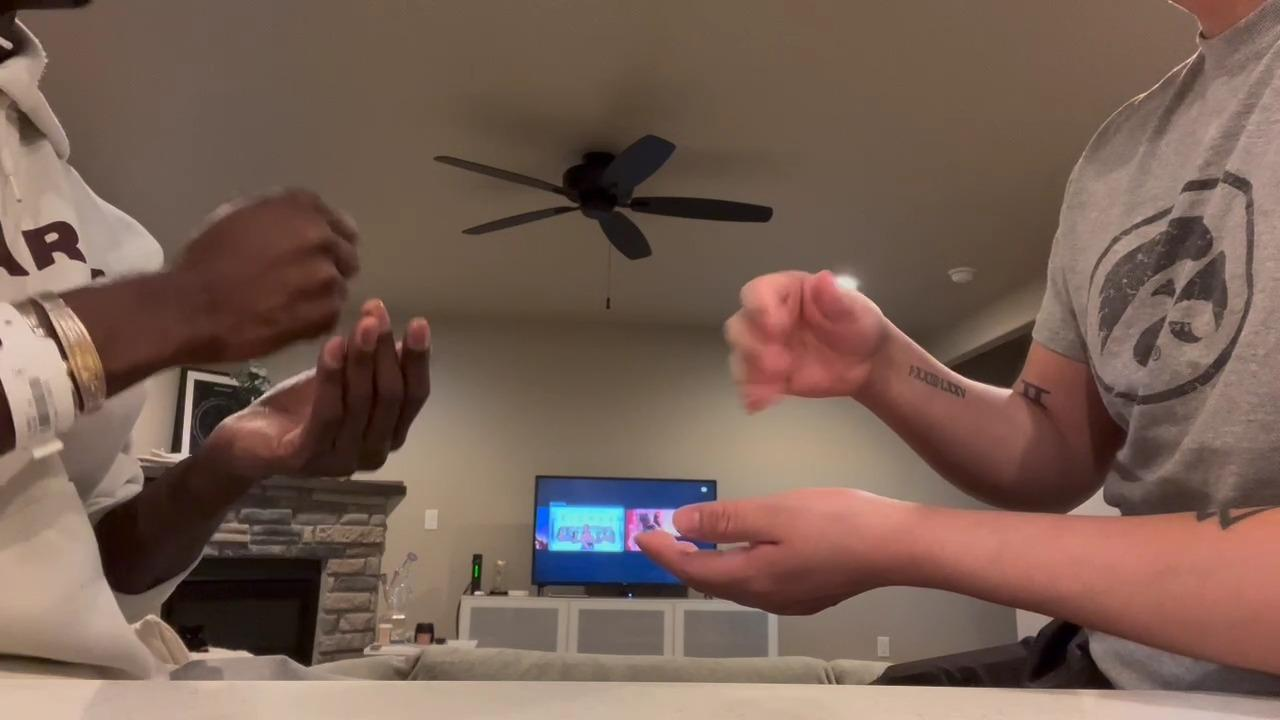Rock: (180, 183, 360, 361)
